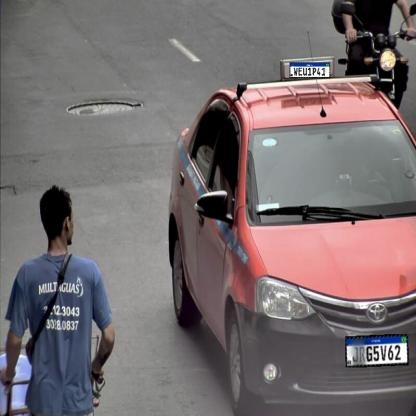PlacaM: (345, 334, 409, 368), (290, 62, 330, 78)
